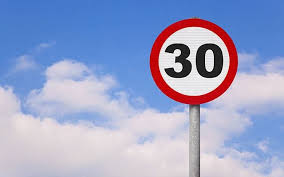Speed_limit_30km: (149, 18, 239, 105)
